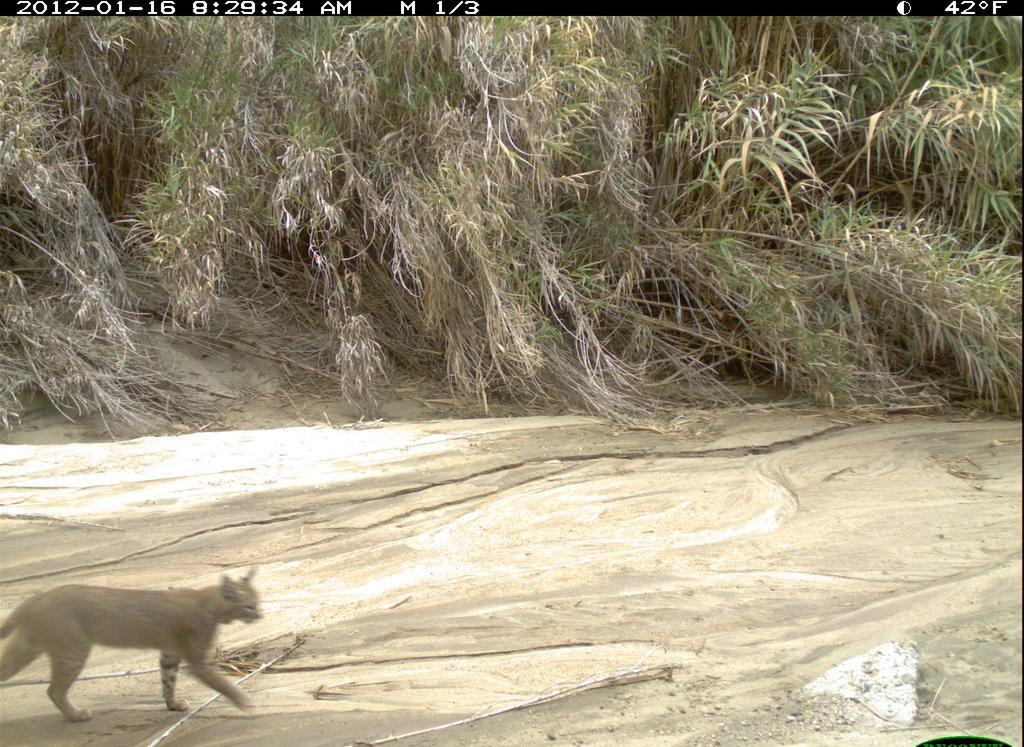bobcat: (3, 562, 268, 725)
